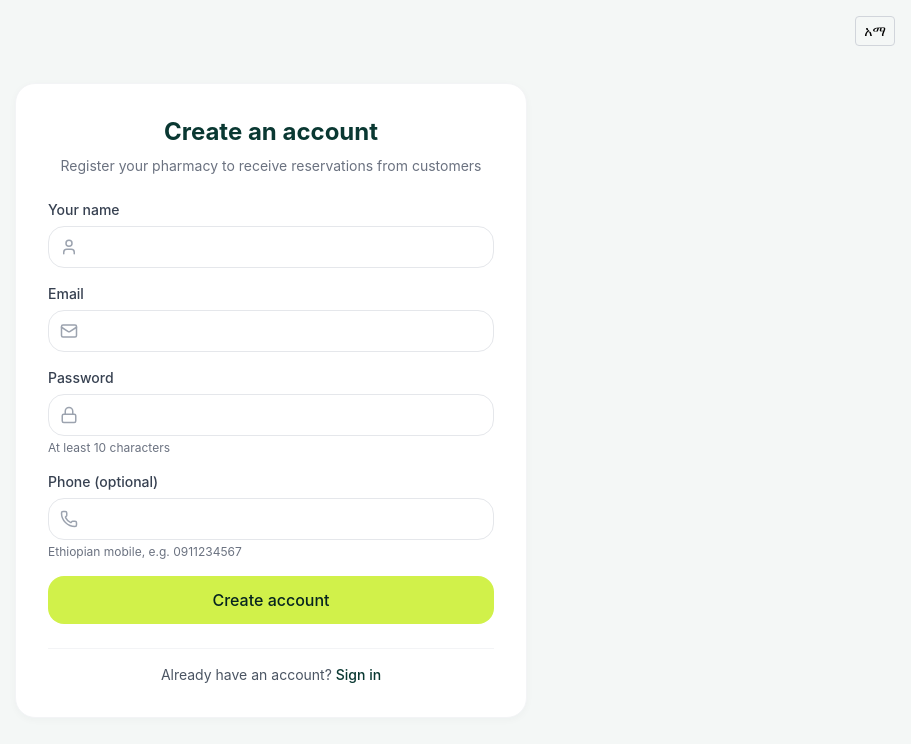
it: RegisterPage › shows inline error on duplicate email (409 EMAIL_IN_USE)
Step 1. Type "Test Owner" into the field labelled "Your name" → (271, 246), box [48,226,494,268]
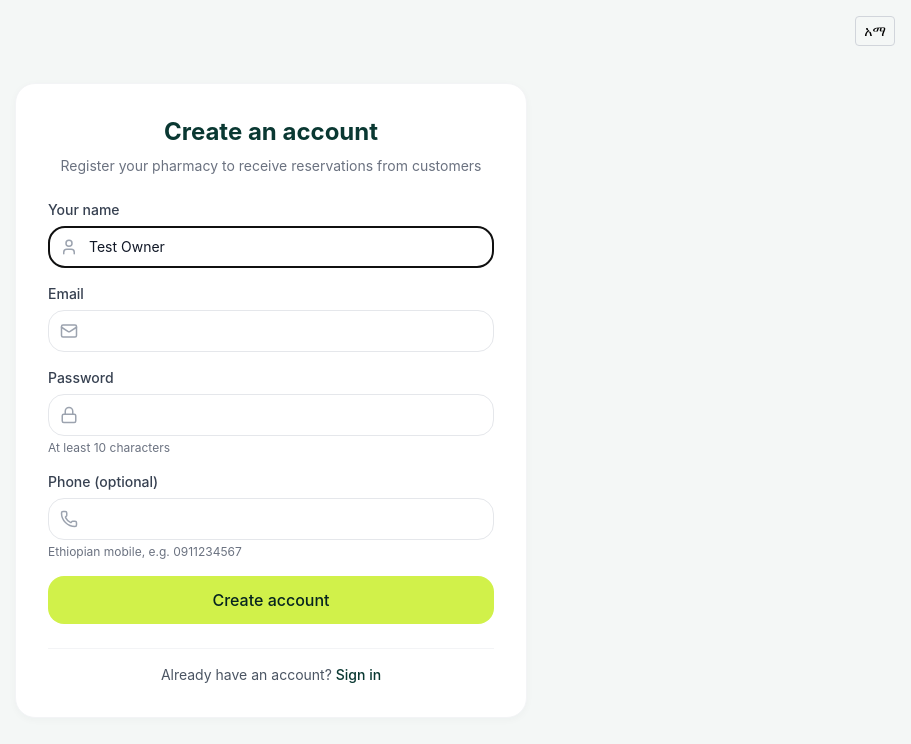
Step 2. Type "taken@test.com" into the field labelled "Email" → (271, 330), box [48,310,494,352]
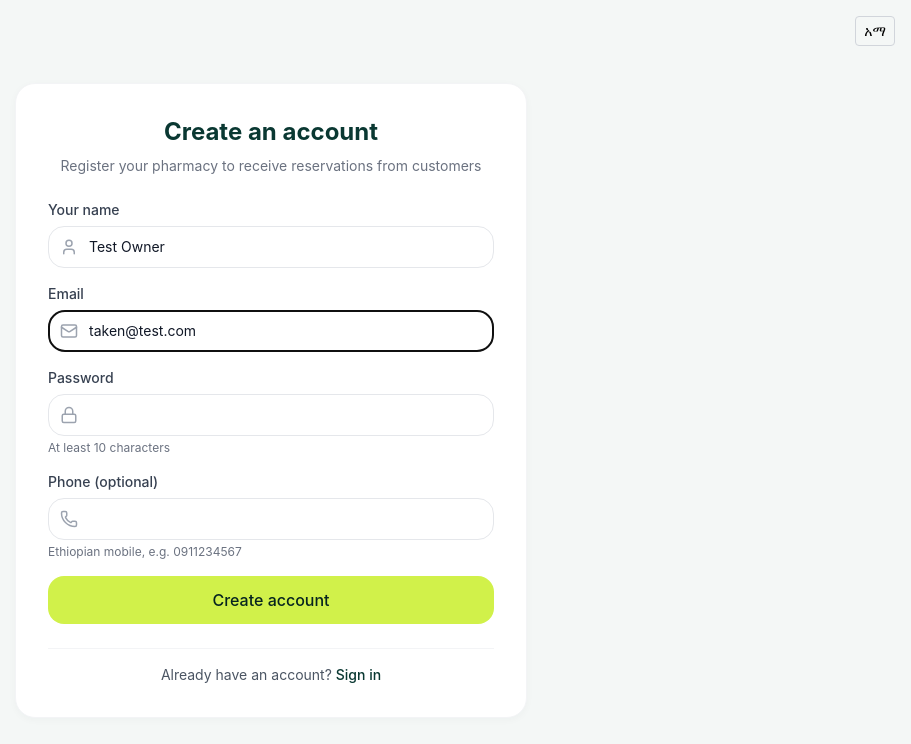
Step 3. Type "correct-horse-battery" into the password field labelled "Password At least 10 characters" → (271, 414), box [48,394,494,436]
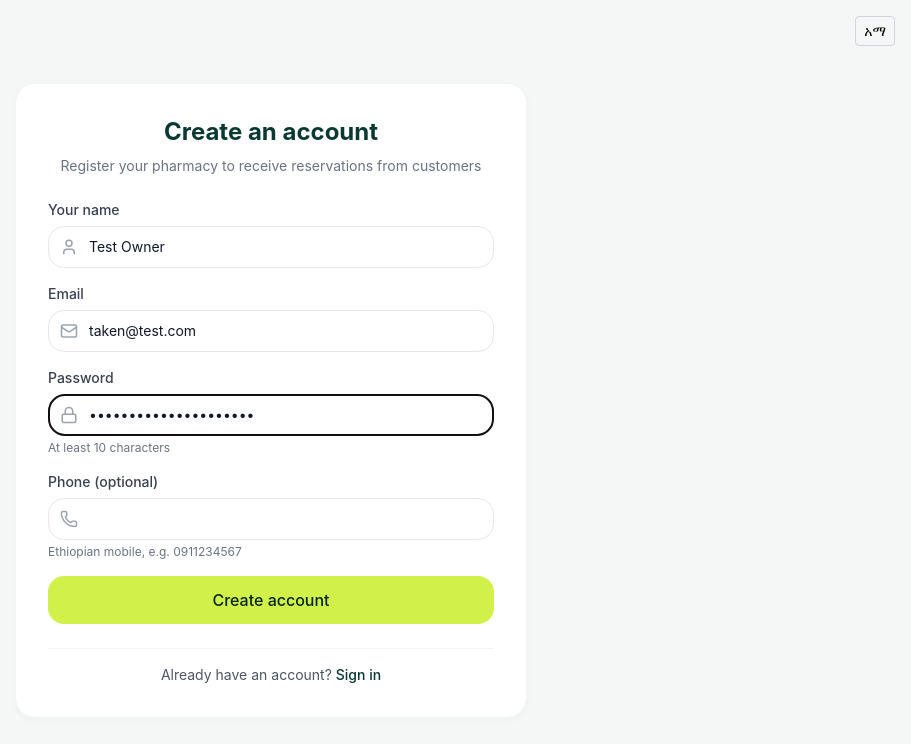
Step 4. Click the button "Create account" → (271, 600), box [48,576,494,624]
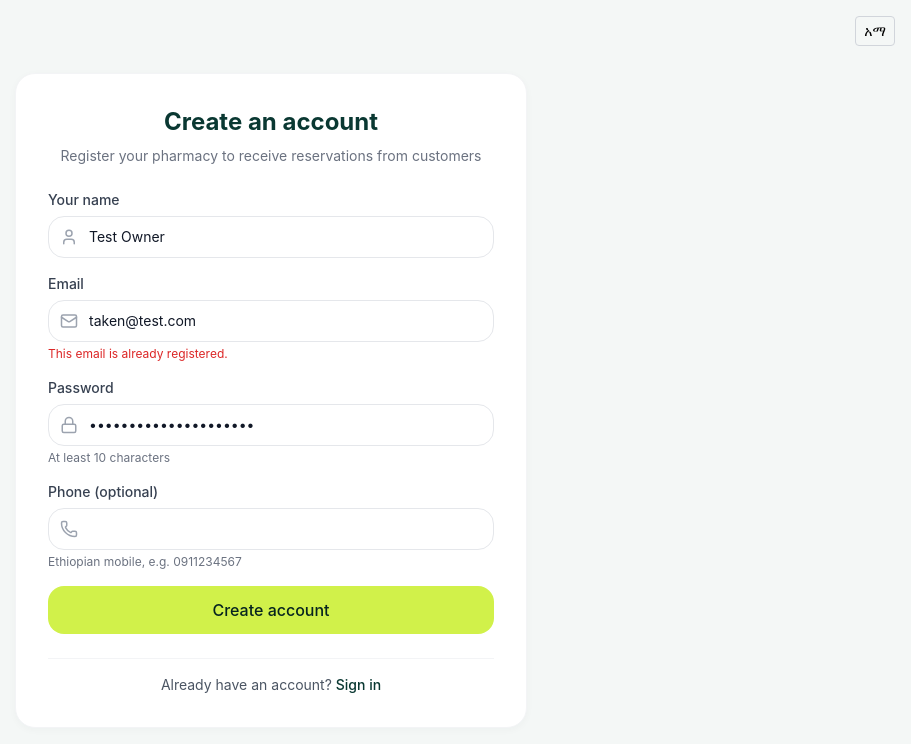
Check: the text "This email is already registered." is shown, box [48,346,228,360]
